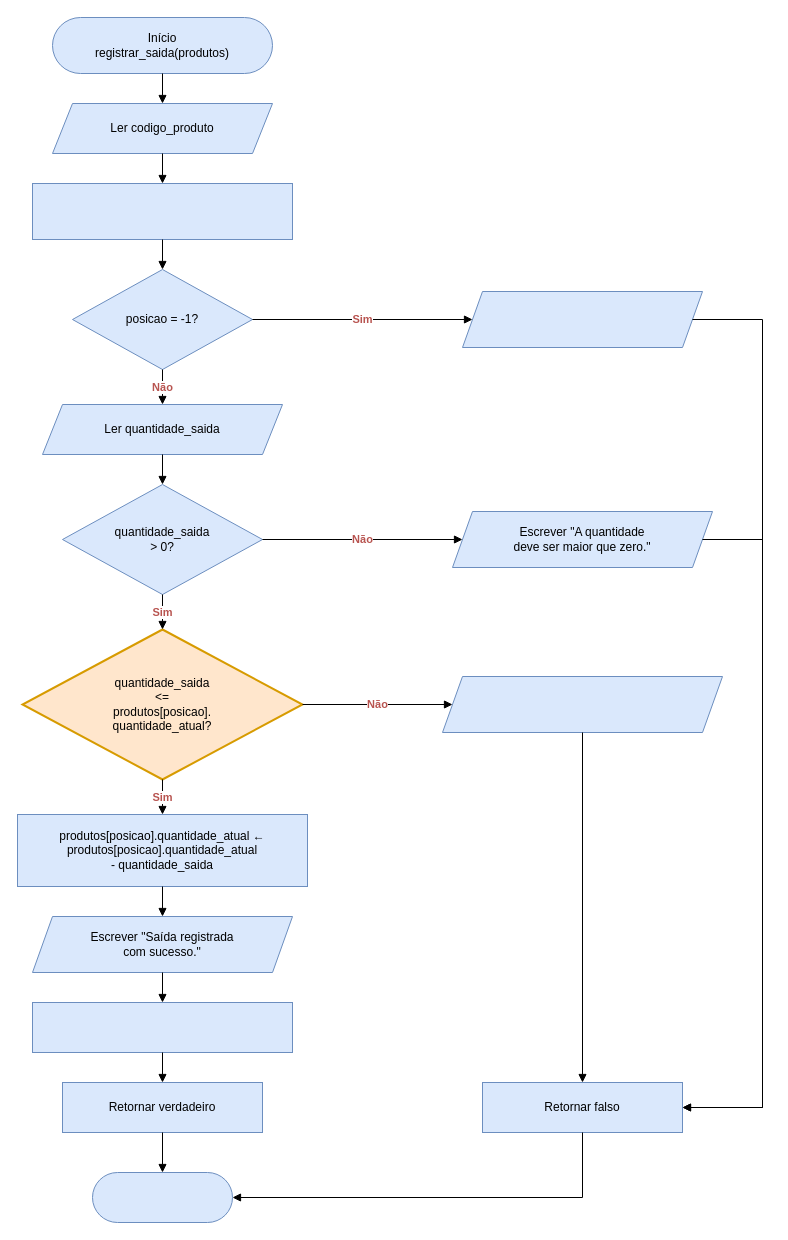
This 788x1240 diagram has some shape labels left out. The shapes that lost their labels are listed below. From the top down, each one's centre as x and y in pixels, then its label:
[162,211]: posicao ← buscar_produto( produtos, codigo_produto)
[582,319]: Escrever "Produto não encontrado."
[582,704]: Escrever "Quantidade insuficiente para esta saída"
[162,1027]: exibir_produto(produtos[posicao])
[162,1197]: Fim
